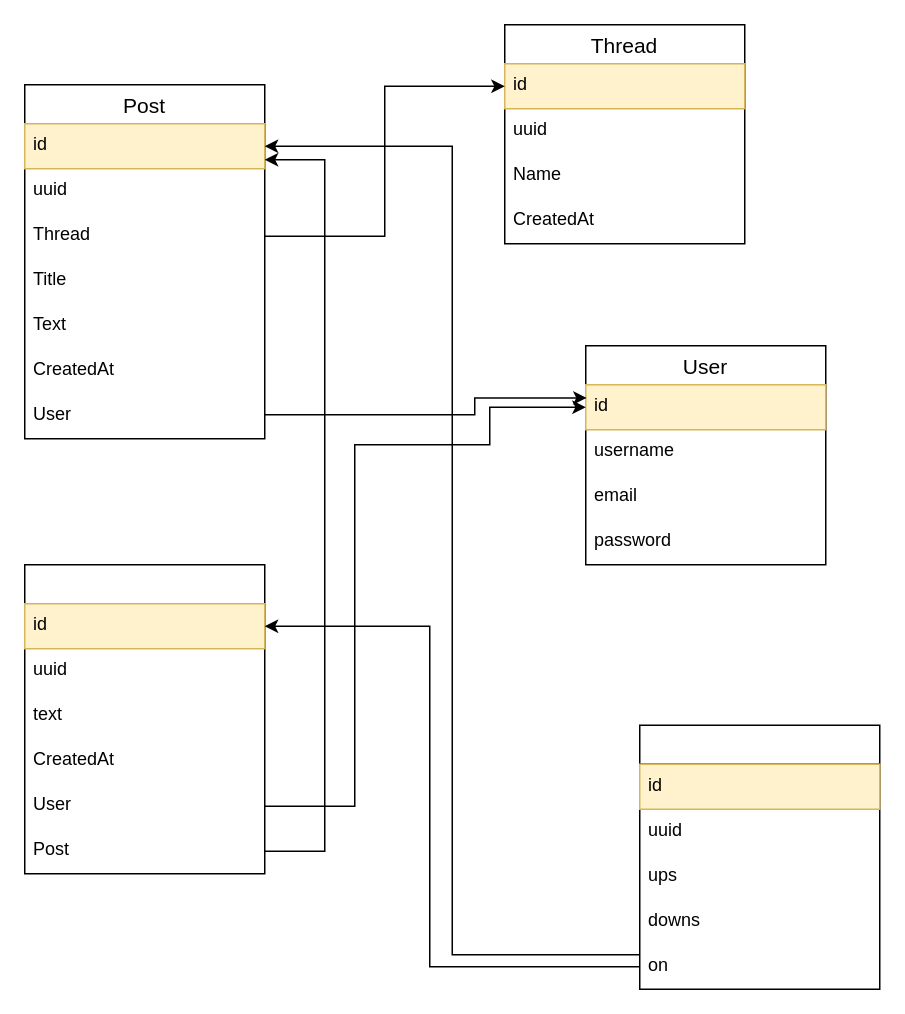
Some shapes in this 905 by 1014 pixel diagram are drawn without their labels. Here are the shapes that lost their labels. From the top down, the box of each, then its label:
(23, 563, 265, 874): Comment
(638, 724, 880, 989): Vote
